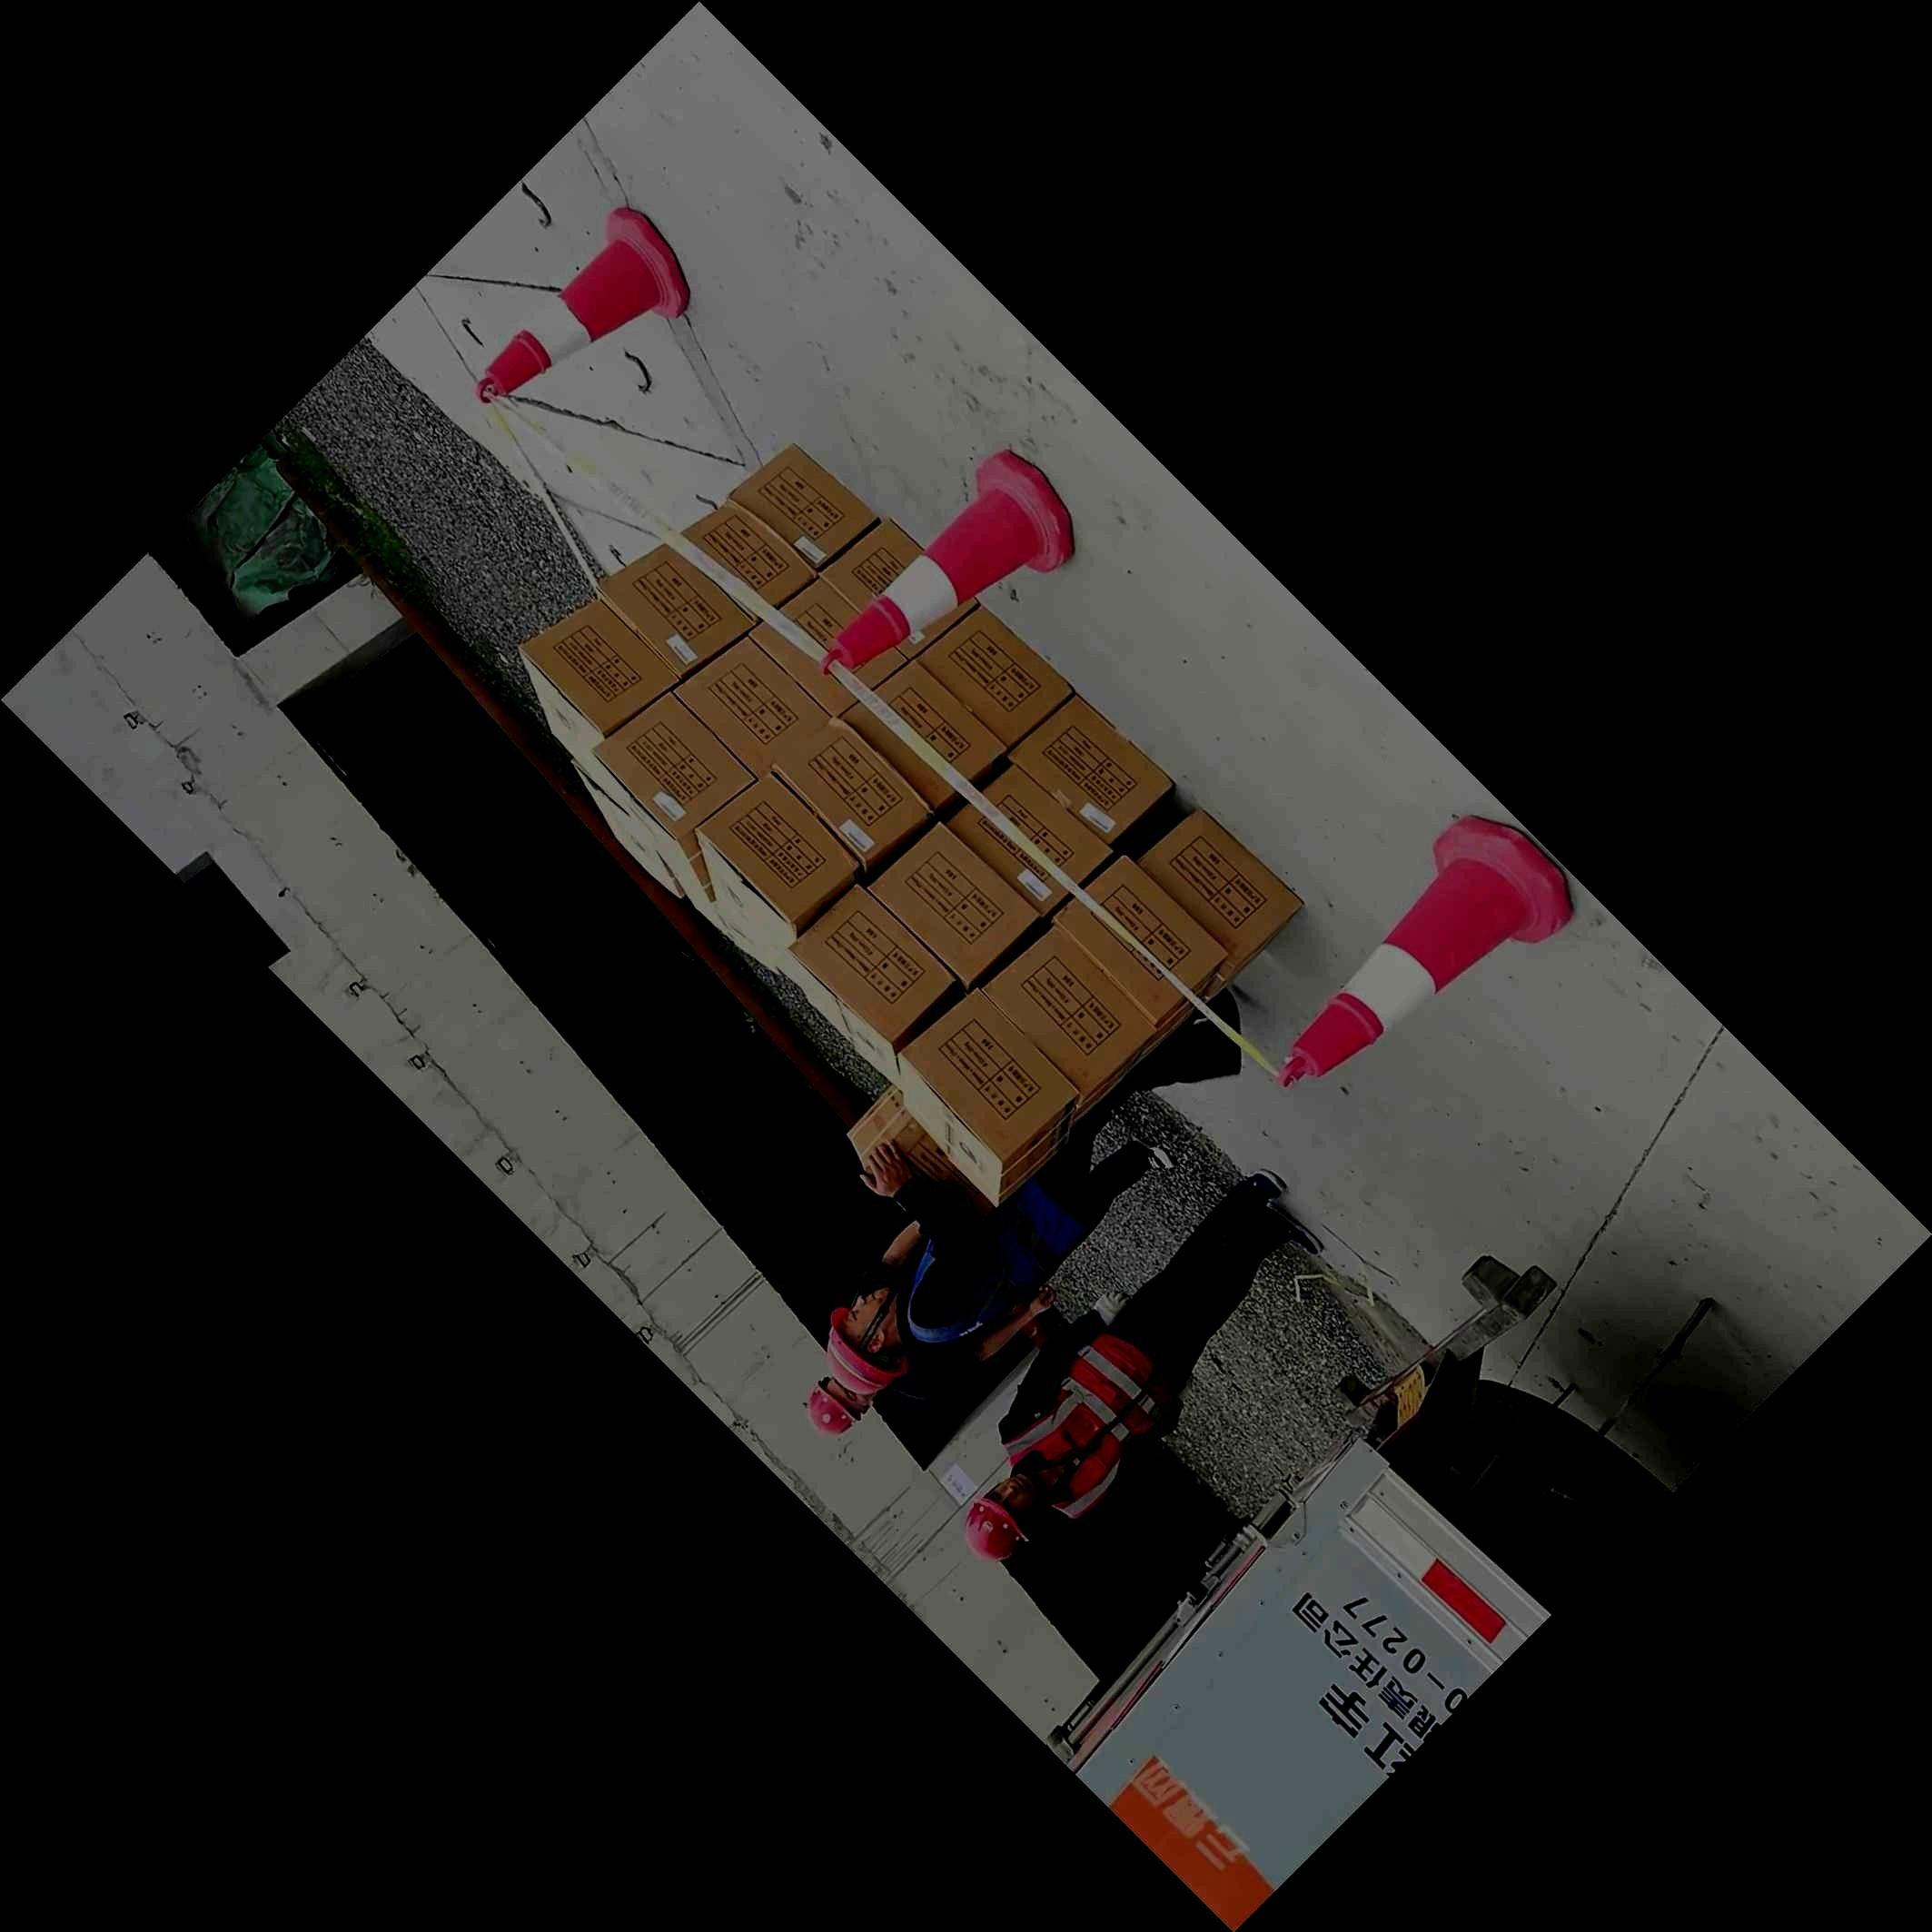helmet: (826, 1286, 909, 1396), (964, 1474, 1035, 1562), (807, 1376, 876, 1435)
